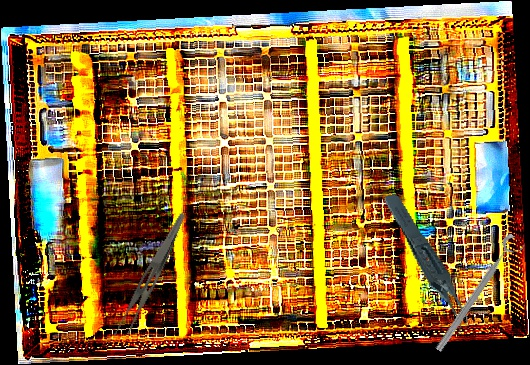Dressing Forceps: (111, 205, 187, 345)
Fixation Ring: (431, 232, 528, 359)
Tissue Forceps: (382, 183, 472, 346)
